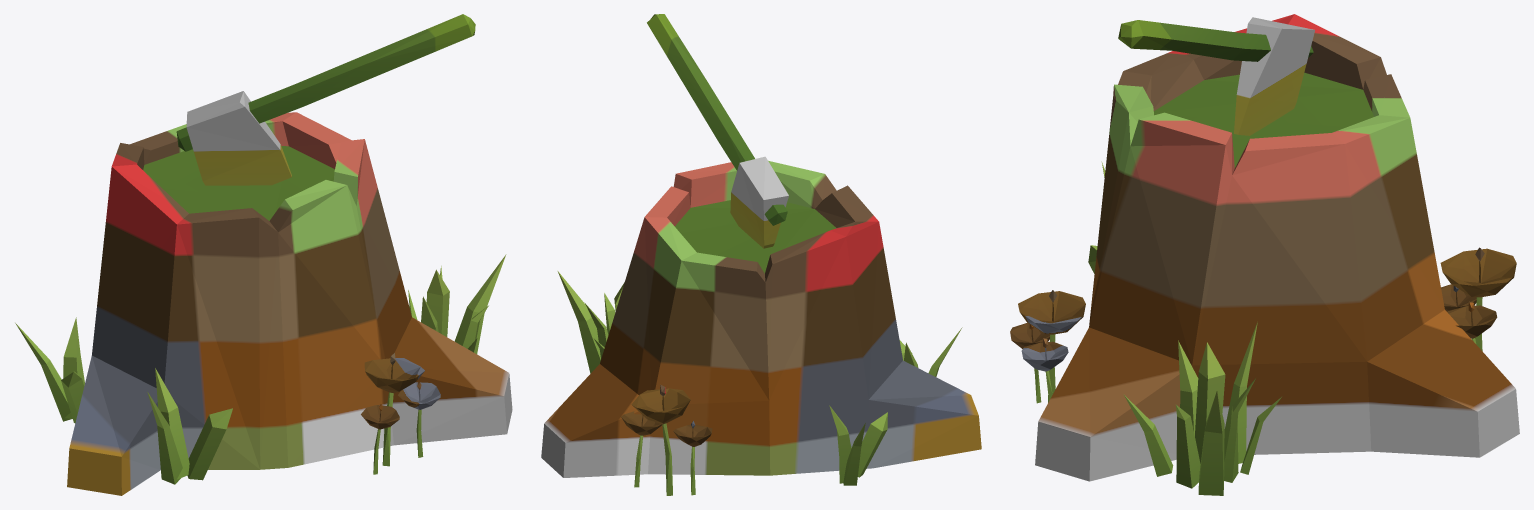
File: Stump_11.fbx
3 views of the same model, side by side, from view 1: azimuth 30°, elevation 25°; view 2: azimuth 150°, elevation 25°; view 3: azimuth 270°, elevation 25° (orthographic). The views are drawn at different scales.
Parts seen in each view (by area): view 1: Stump_11; view 2: Stump_11; view 3: Stump_11.
Boxes of the visible parts, x1,y1,x2,y2 form: Stump_11: (15,14,512,495); Stump_11: (541,14,981,495); Stump_11: (1010,14,1519,495).
Size of the model in its own units: 2.11 by 1.74 by 1.76.
